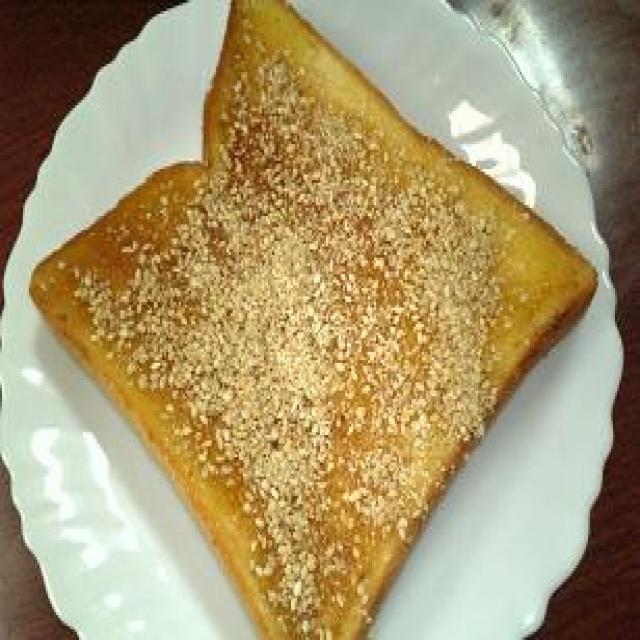面包点心: (27, 0, 603, 640)
